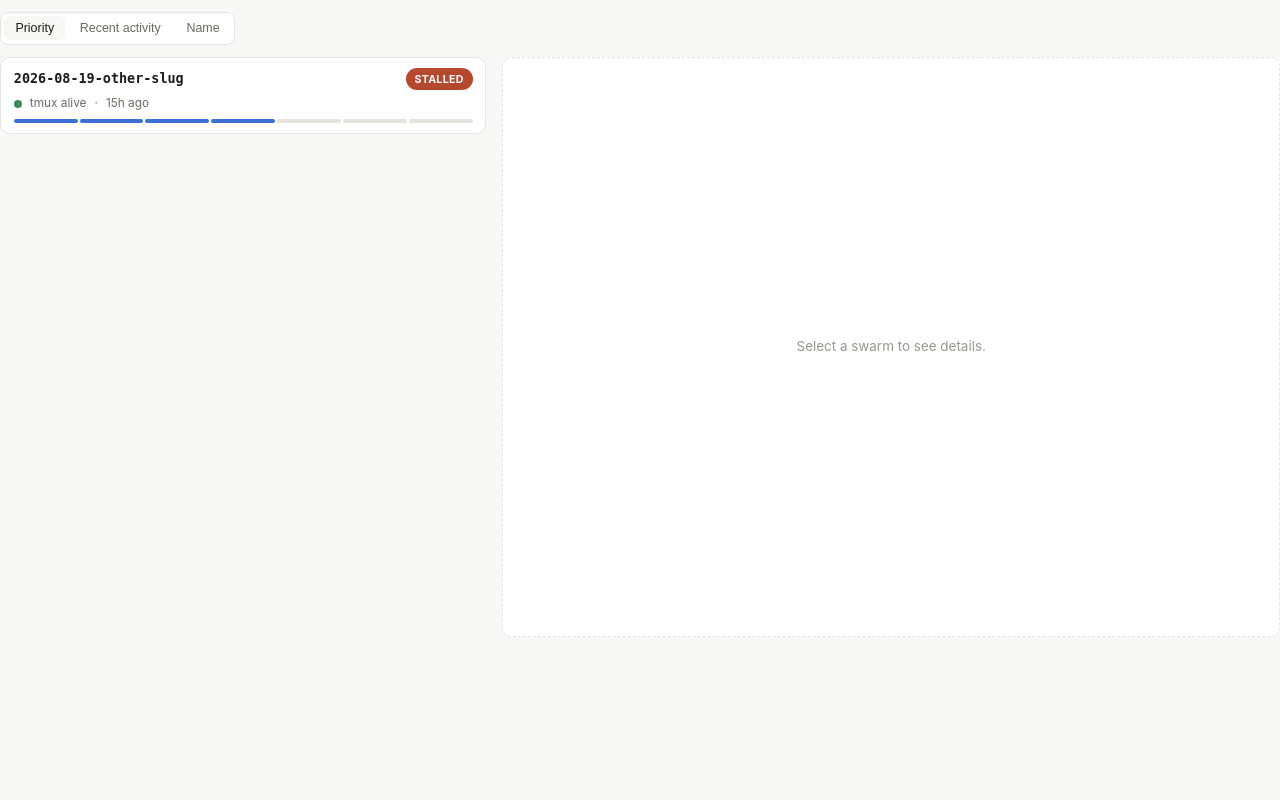
Scenario: SwarmsTab › shows the authoritative stalled badge only from STATE.md's own marker
The width and height of the screenshot is (1280, 800).
Click the text "2026-08-19-other-slug": (99, 79) [14,69,184,89]
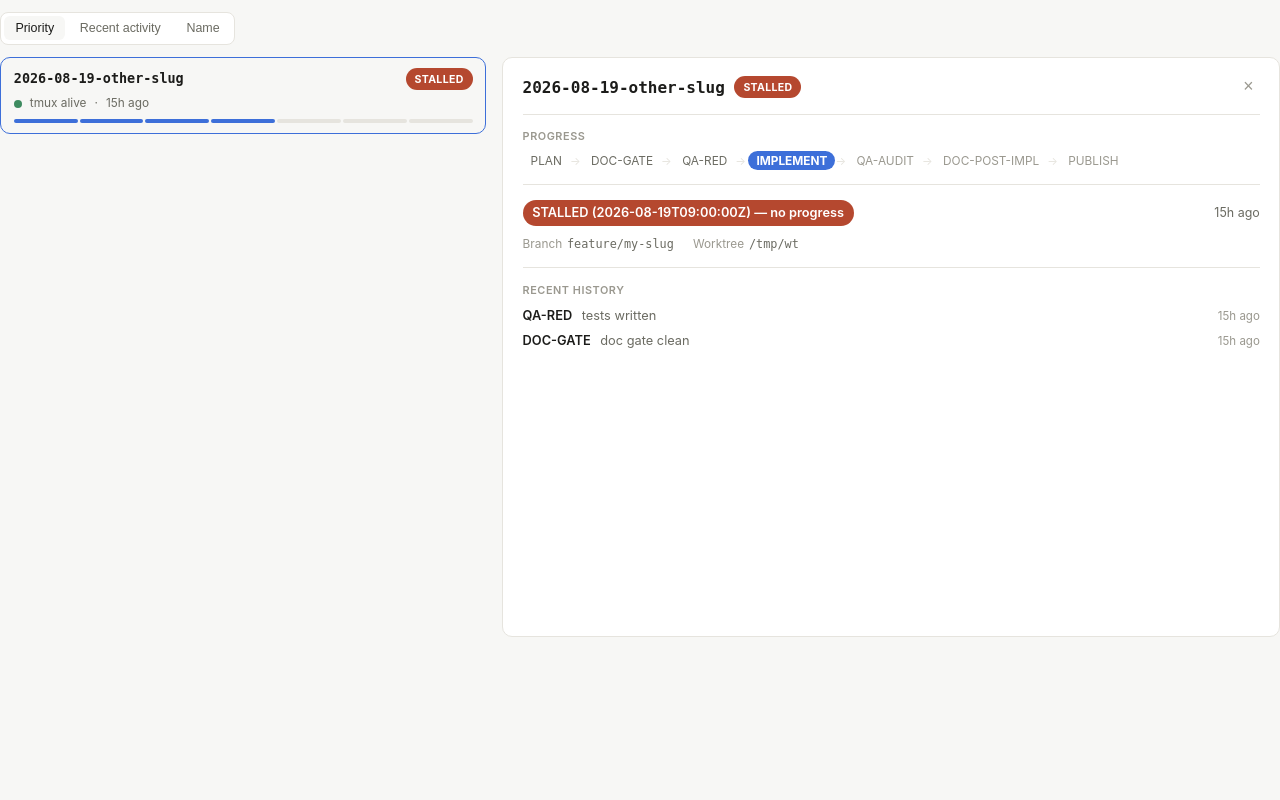
Expected: the text "STALLED (2026-08-19T09:00:00Z) — no progress" is shown, [523,200,854,226]
